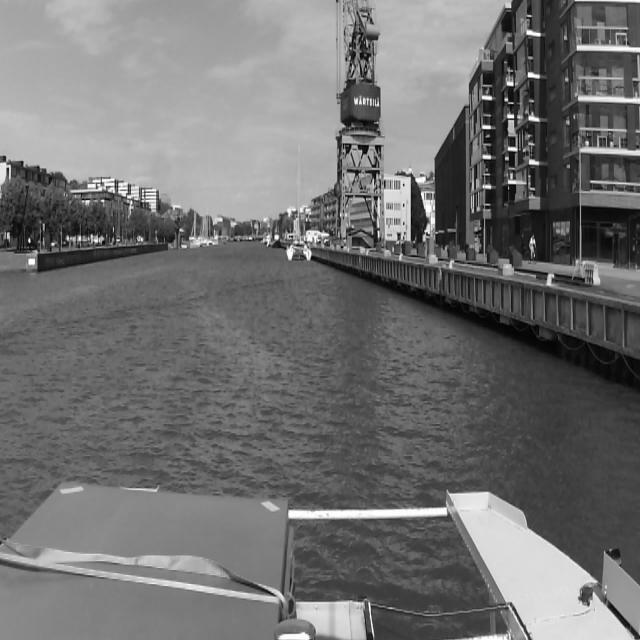ship: (284, 141, 312, 263), (186, 205, 200, 250), (199, 210, 214, 247), (268, 220, 282, 250), (218, 236, 228, 247), (265, 234, 271, 245)
